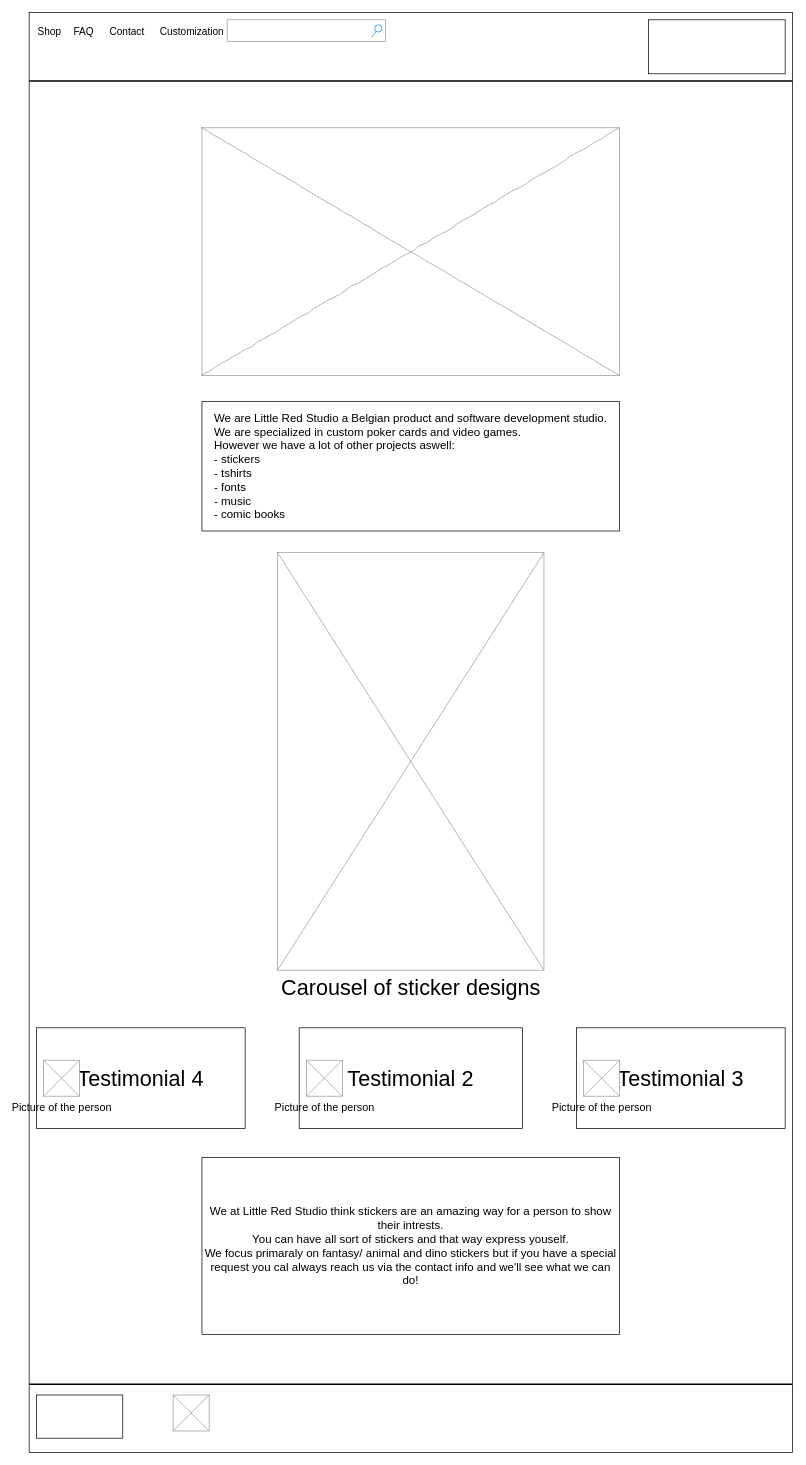
This 806x1465 diagram has some shape labels left out. The box of each missing label's shape, as (x1, y1, x2, y2) in pixels:
Here comes the logo: (201, 127, 620, 375)
Instagram/other social media links: (172, 1394, 209, 1431)
Legal info Return policy Contact: (36, 1394, 123, 1438)
Logo/Home Button: (648, 19, 785, 74)
Search: (226, 19, 386, 41)
